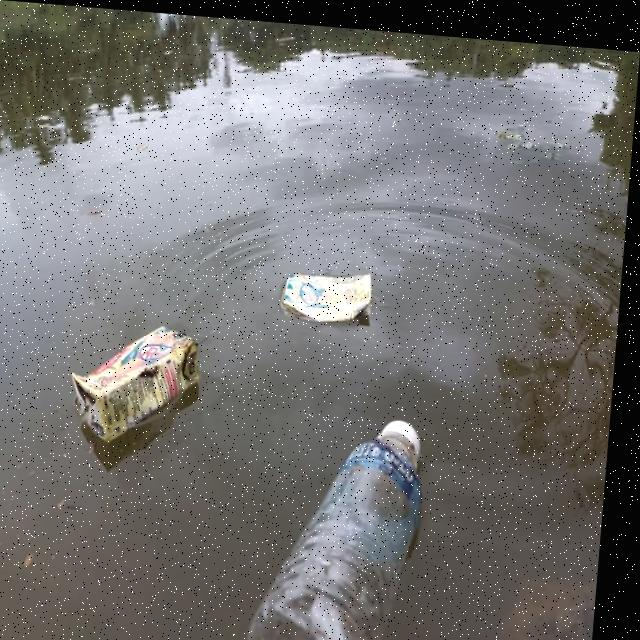paper: (66, 301, 224, 473), (271, 260, 397, 333)
waterbottle: (253, 398, 490, 640)
